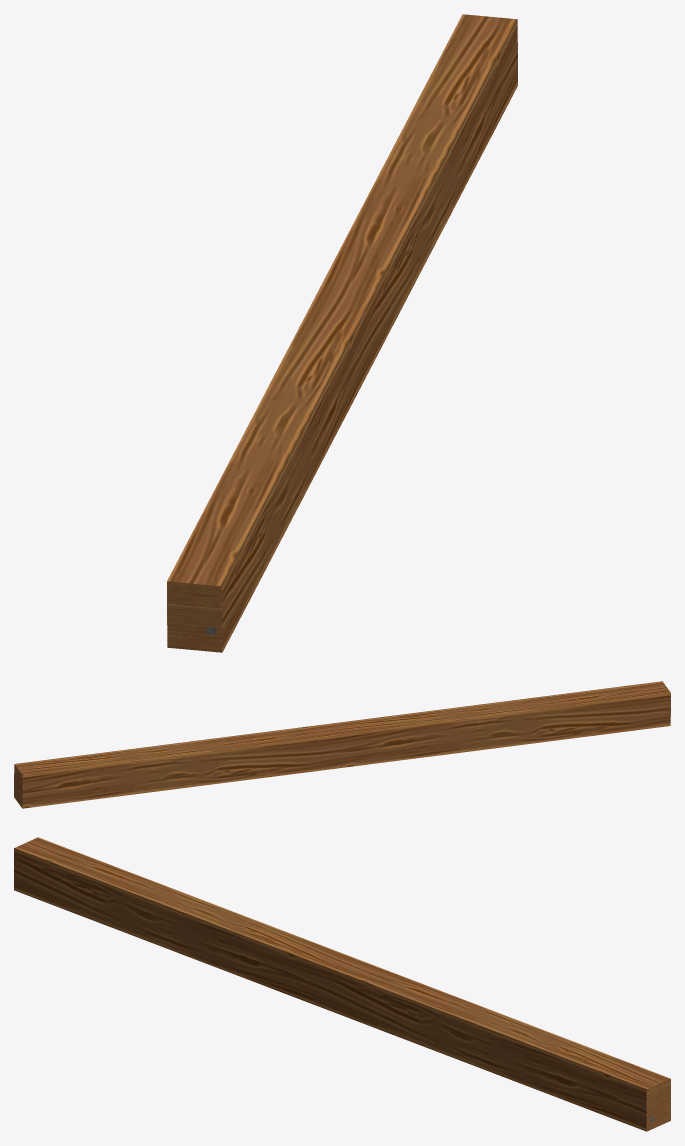
3 views of the same model, one above another, from view 1: azimuth 30°, elevation 25°; view 2: azimuth 150°, elevation 25°; view 3: azimuth 270°, elevation 25° (orthographic). The views are drawn at different scales.
Parts seen in each view (by area): view 1: Cube.1903; view 2: Cube.1903; view 3: Cube.1903.
Part boxes in pixels (left/top/right/bottom): Cube.1903: left=167, top=14, right=517, bottom=652; Cube.1903: left=14, top=681, right=670, bottom=808; Cube.1903: left=14, top=837, right=670, bottom=1131.
Size of the model in its own units: 275 by 23.12 by 297.
Materials: 1 (1 with a texture image).
